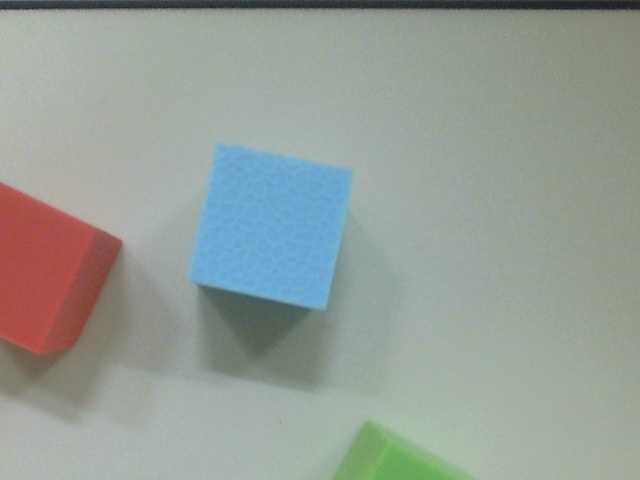greencube: (312, 419, 487, 480)
